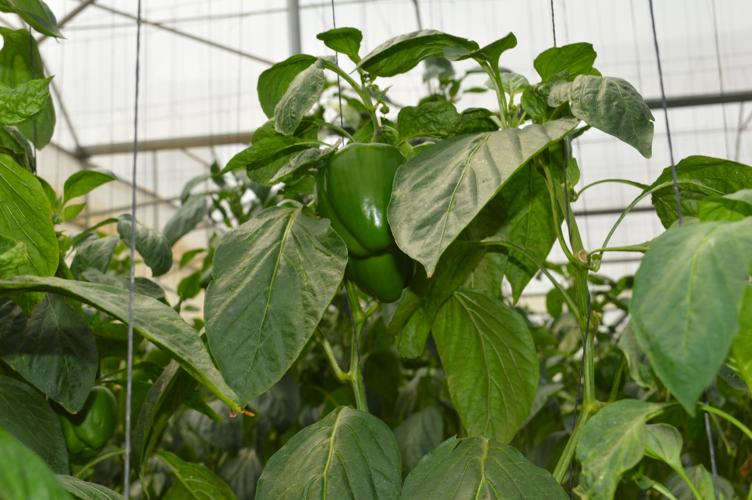BellPepper: (320, 141, 402, 250), (45, 385, 121, 464), (347, 247, 423, 309)
